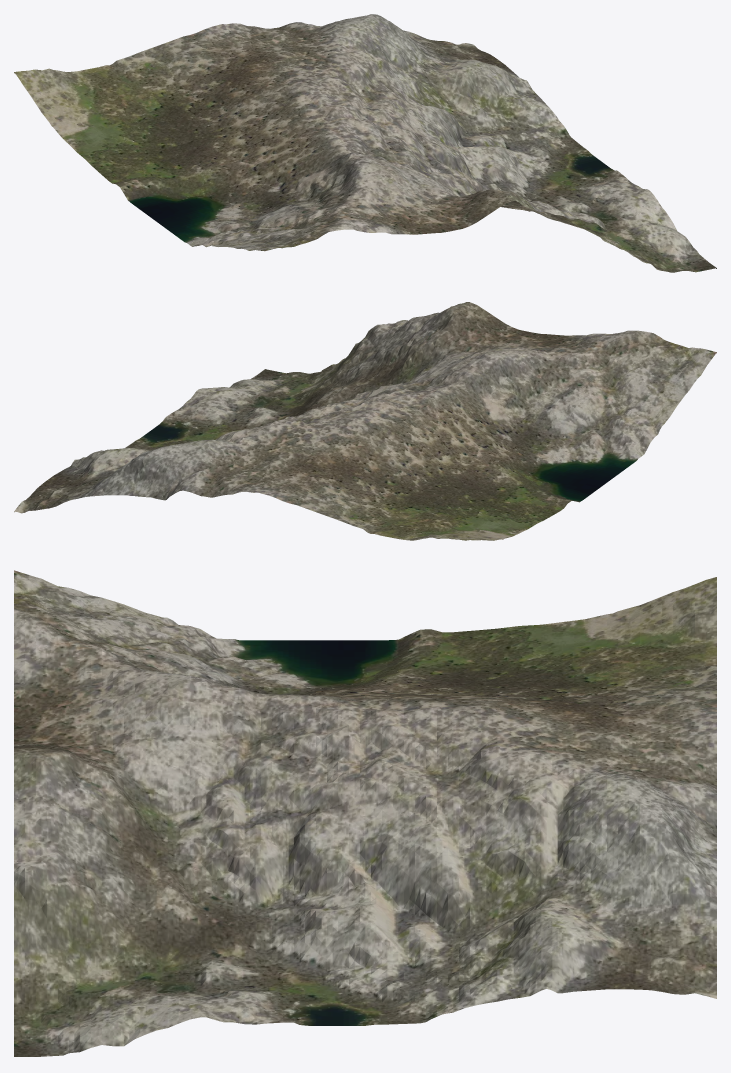
3 views of the same model, one above another, from view 1: azimuth 30°, elevation 25°; view 2: azimuth 150°, elevation 25°; view 3: azimuth 270°, elevation 25° (orthographic). The views are drawn at different scales.
Size of the model in its own units: 1000 by 280 by 963.
1 material, 1 textured.
